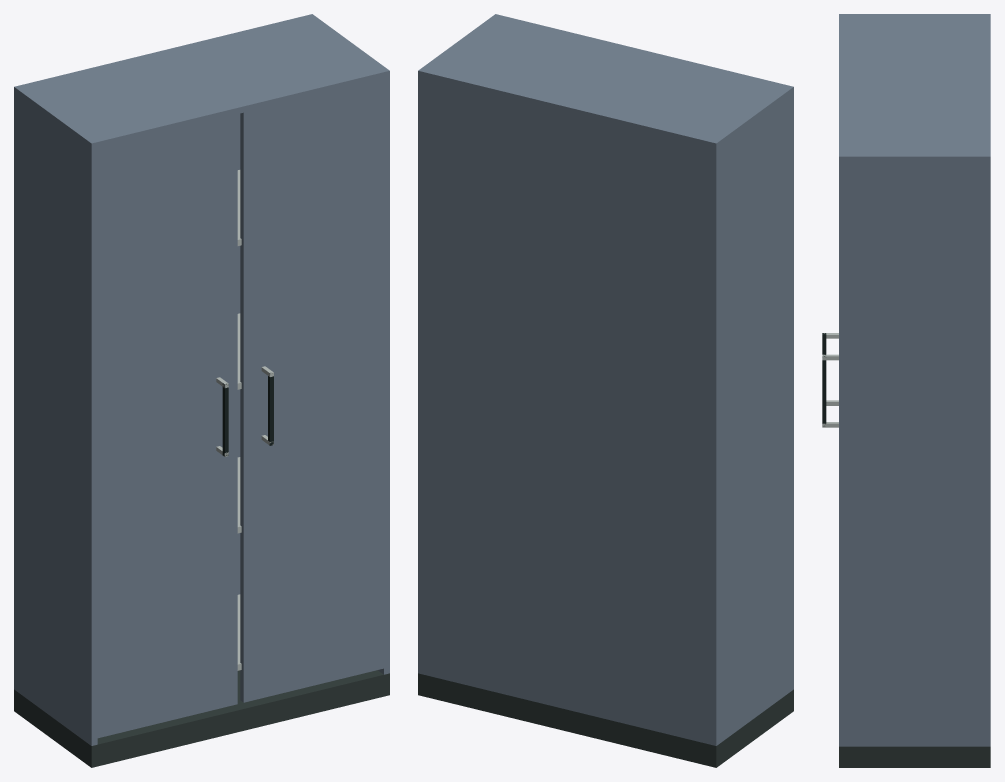
Rendered from steel-cabinet.glb.
The picture shows the model from 3 angles, left to right: view 1: azimuth 30°, elevation 25°; view 2: azimuth 150°, elevation 25°; view 3: azimuth 270°, elevation 25°; orthographic projection. The views are drawn at different scales.
Parts seen in each view (by area): view 1: RightDoor, LeftDoor, SideWall-1, TopPanel, Plinth, SideWall1, BackPanel; view 2: BackPanel, SideWall-1, TopPanel, Plinth, SideWall1; view 3: SideWall1, TopPanel, BackPanel, Plinth, Grip.
Boxes of the visible parts, left/top/right/bottom form: RightDoor: left=240, top=78, right=383, bottom=702; LeftDoor: left=97, top=114, right=237, bottom=738; SideWall-1: left=14, top=85, right=97, bottom=745; TopPanel: left=16, top=14, right=389, bottom=148; Plinth: left=14, top=670, right=389, bottom=767; SideWall1: left=351, top=44, right=389, bottom=674; BackPanel: left=14, top=26, right=264, bottom=595; BackPanel: left=418, top=70, right=719, bottom=745; SideWall-1: left=710, top=85, right=793, bottom=745; TopPanel: left=418, top=14, right=793, bottom=148; Plinth: left=418, top=673, right=793, bottom=767; SideWall1: left=418, top=68, right=423, bottom=672; SideWall1: left=839, top=153, right=990, bottom=746; TopPanel: left=839, top=14, right=990, bottom=162; BackPanel: left=984, top=34, right=990, bottom=742; Plinth: left=839, top=746, right=990, bottom=767; Grip: left=822, top=354, right=826, bottom=426.
Size of the model in its own units: 0.9 by 1.8 by 0.45.
